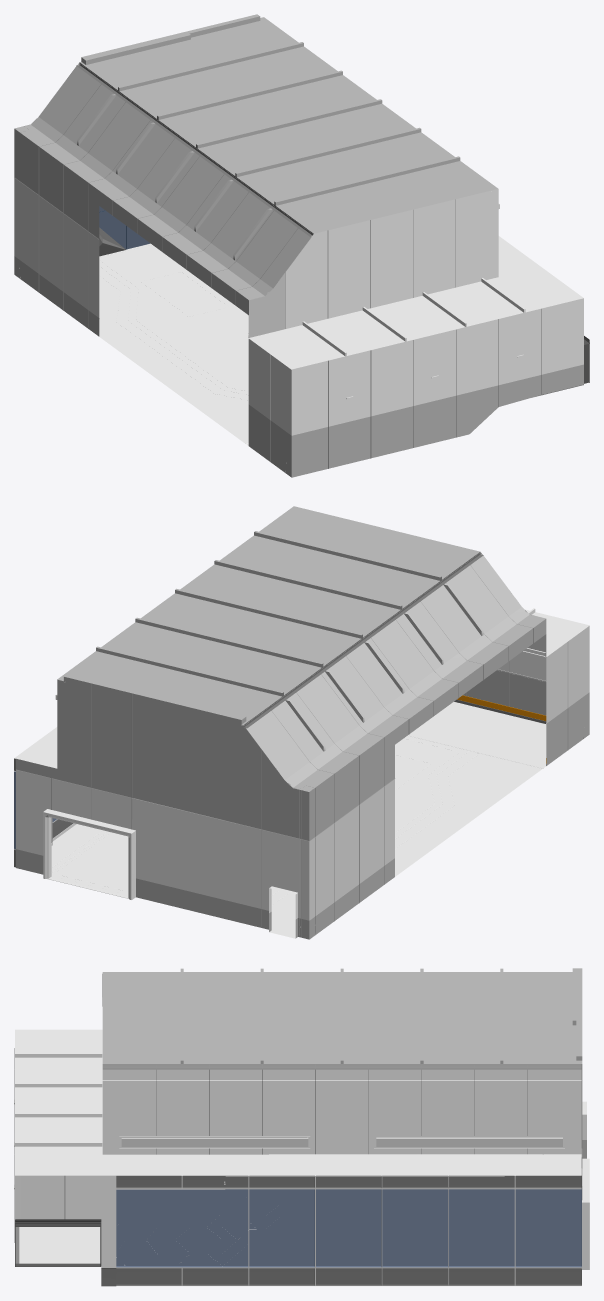
3 views of the same model, one above another, from view 1: azimuth 30°, elevation 25°; view 2: azimuth 150°, elevation 25°; view 3: azimuth 270°, elevation 25° (orthographic). The views are drawn at different scales.
Visible parts, largest first — view 1: SM_H_Building_FutureTech_HBlack_01_InterWall_01; view 2: SM_H_Building_FutureTech_HBlack_01_InterWall_01; view 3: SM_H_Building_FutureTech_HBlack_01_InterWall_01.
Part boxes in pixels (x1,y1,x2,y2): SM_H_Building_FutureTech_HBlack_01_InterWall_01: (14,14,589,477); SM_H_Building_FutureTech_HBlack_01_InterWall_01: (14,506,589,939); SM_H_Building_FutureTech_HBlack_01_InterWall_01: (14,968,589,1286).
Bounding box in the file's own units: 1077 × 660 × 425.
